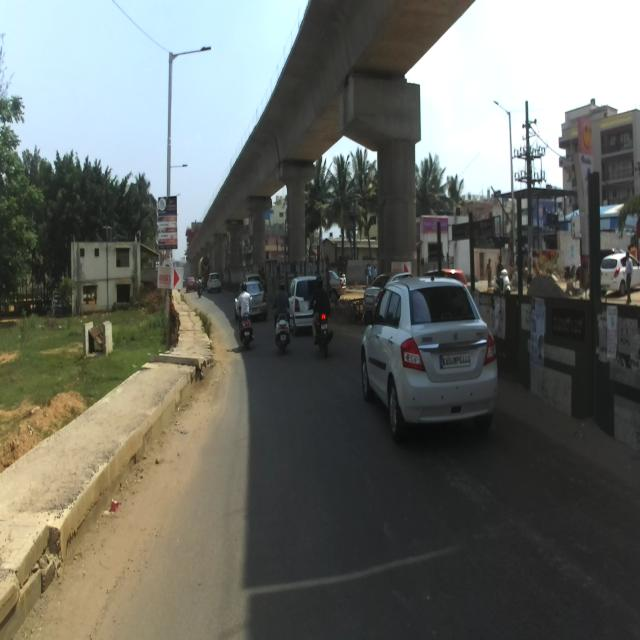car ahead at: (361, 266, 501, 442)
